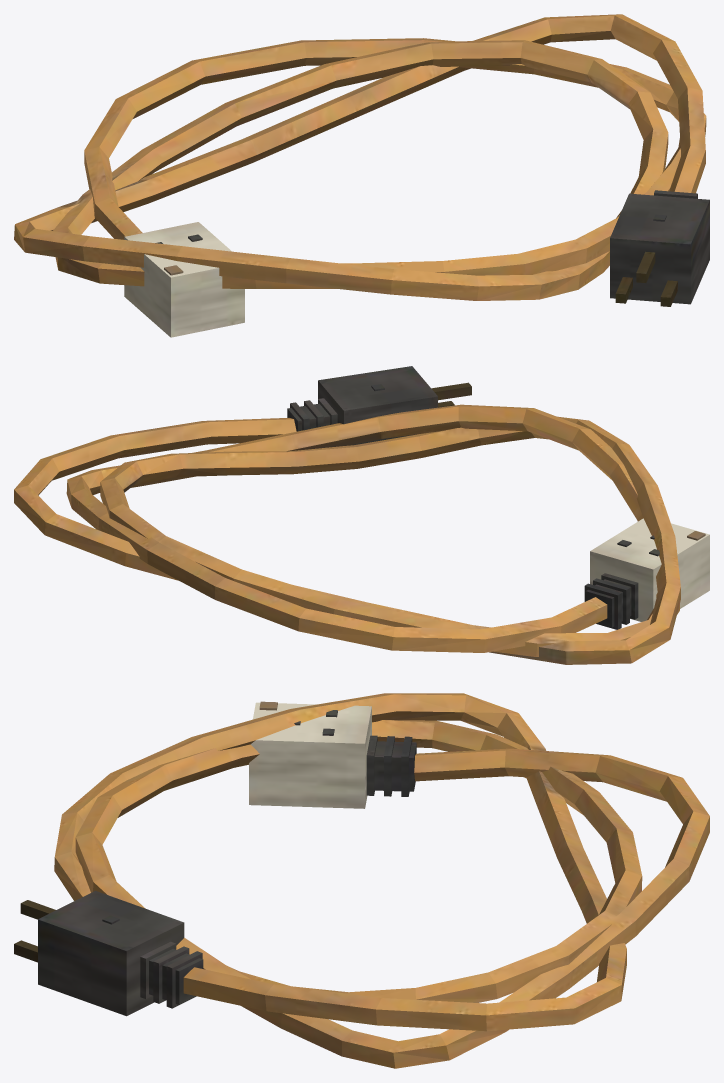
The model's file is U12_tangled_extension_cable.glb.
The picture shows the model from 3 angles, top to bottom: view 1: azimuth 30°, elevation 25°; view 2: azimuth 150°, elevation 25°; view 3: azimuth 270°, elevation 25°; orthographic projection. The views are drawn at different scales.
Parts seen in each view (by area): view 1: Tangled orange extension cable; view 2: Tangled orange extension cable; view 3: Tangled orange extension cable.
Boxes of the visible parts, x1,y1,x2,y2 form: Tangled orange extension cable: [14, 14, 709, 337]; Tangled orange extension cable: [14, 366, 709, 664]; Tangled orange extension cable: [14, 693, 709, 1068].
Bounding box in the file's own units: 0.5 × 0.054 × 0.4193.
6 materials, 6 textured.
